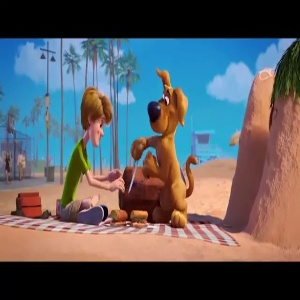Scooby: (146, 70, 198, 139)
Shagy: (78, 84, 112, 146)
